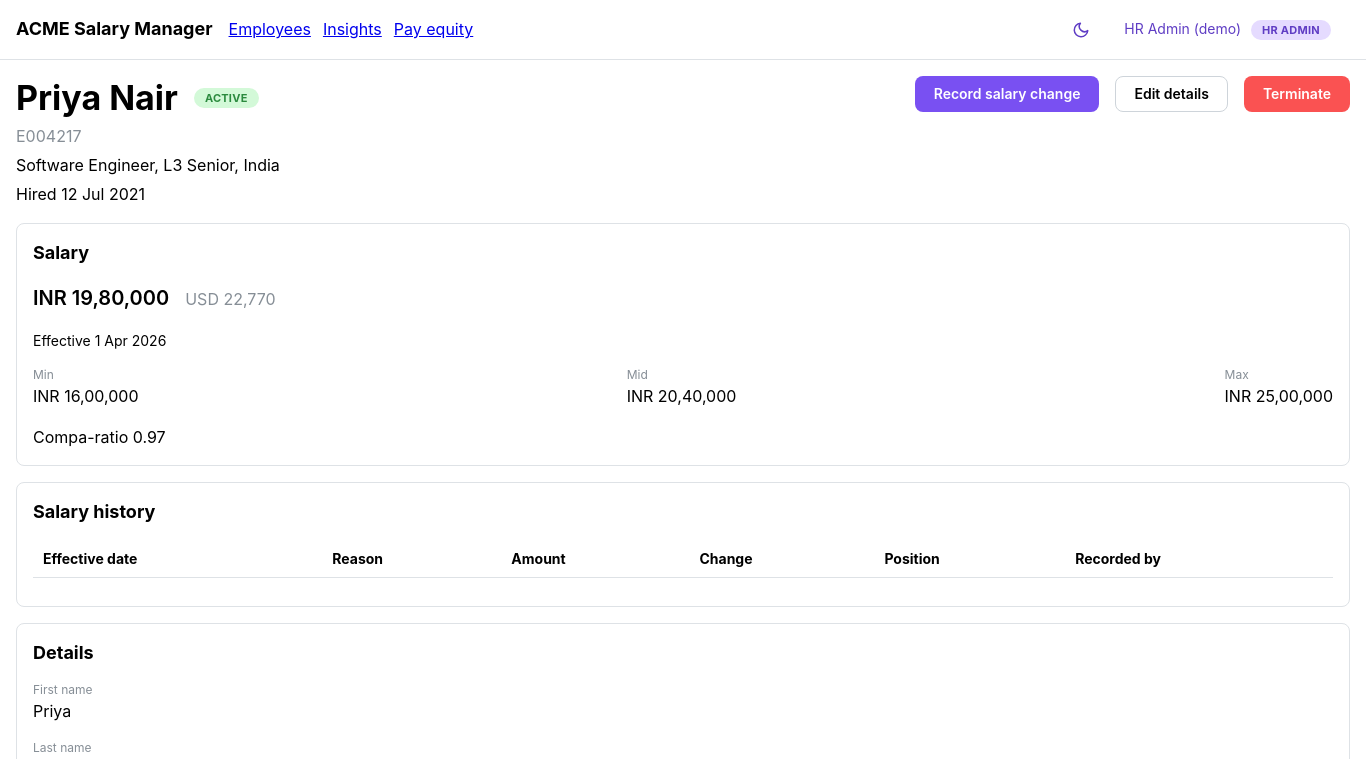
Test: record salary change modal (04 section 8.5 S-6) › rejects a salary of 0 with a plain message
Click the button "Record salary change" at (1007, 94), box [915,76,1100,112]
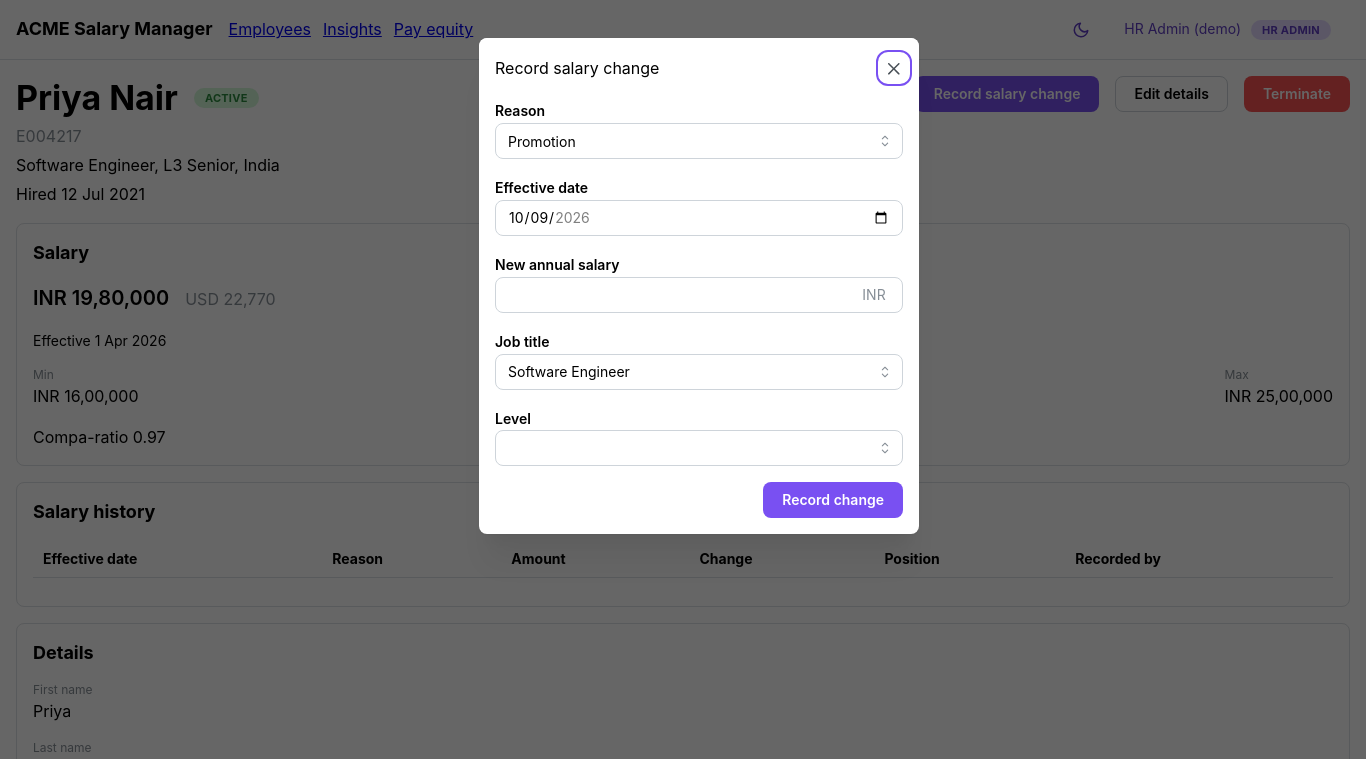
Click the dropdown labelled "Reason" at (699, 141), box [495,123,903,159]
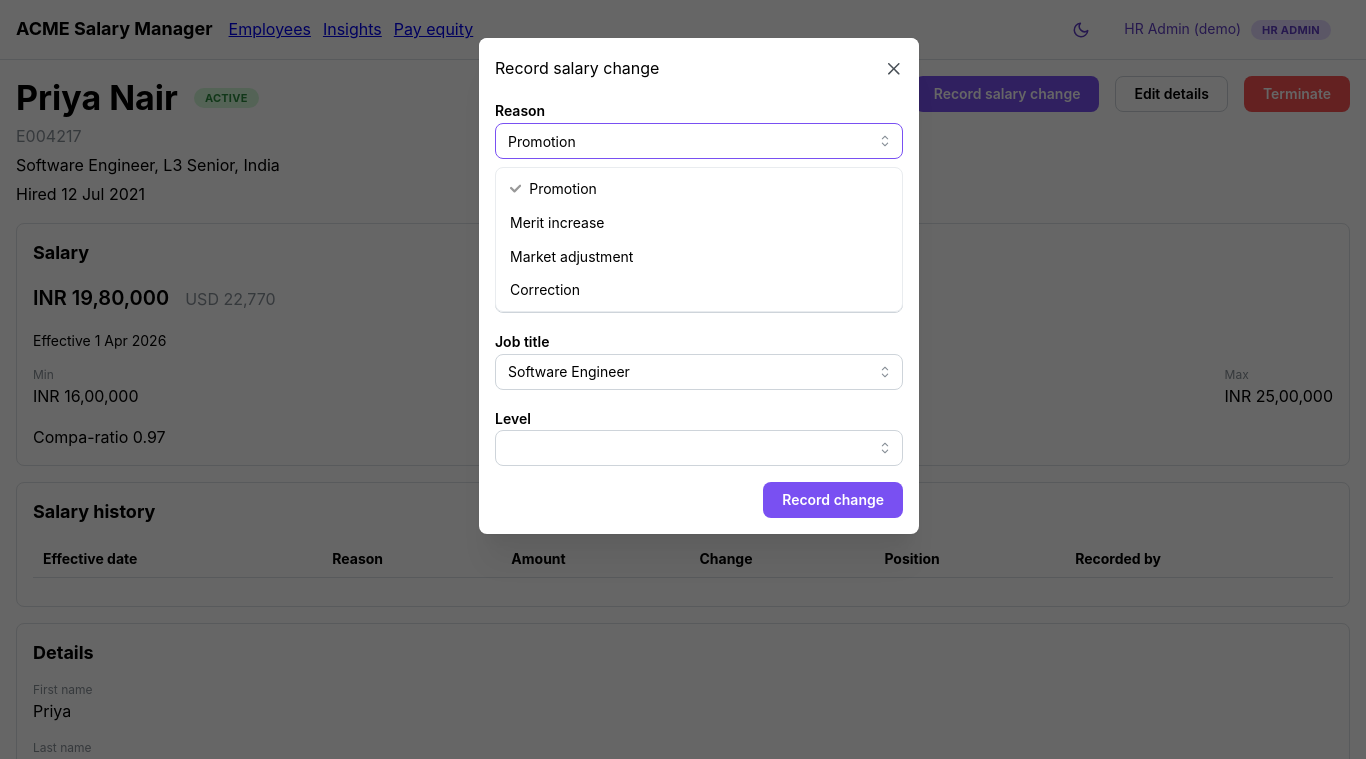
Click the option "Merit increase" at (557, 222), box [510,214,604,231]
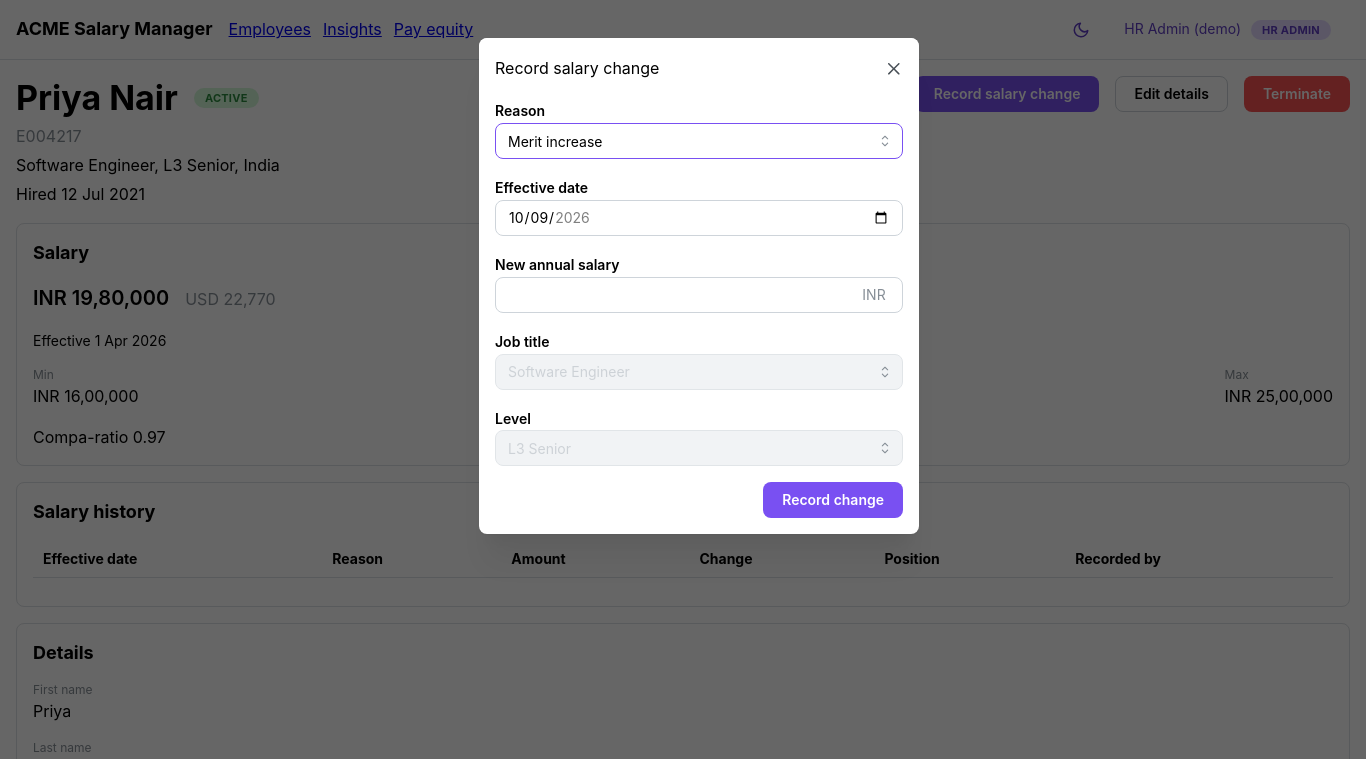
Type "0" into the field labelled "New annual salary" at (699, 295), box [495,277,903,313]
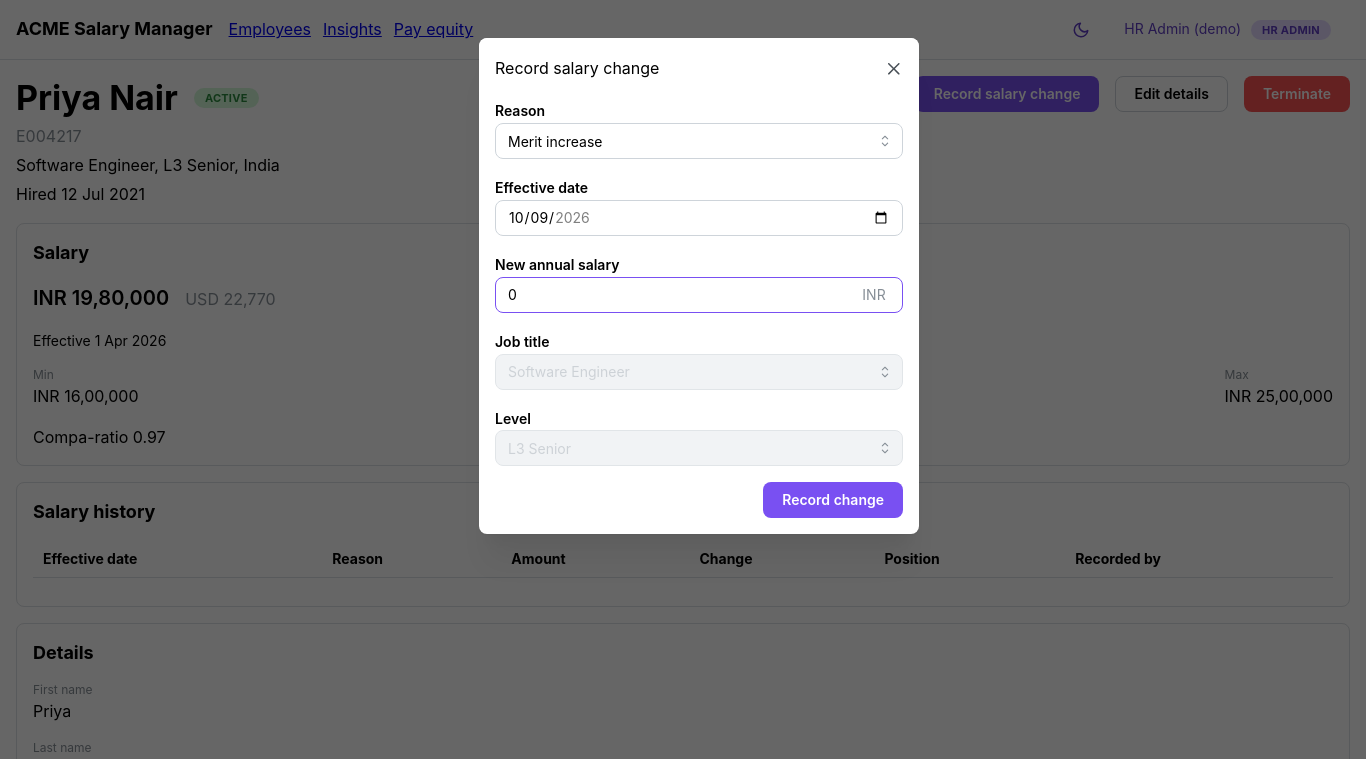
Click the button "Record change" at (833, 500), box [763,482,903,518]
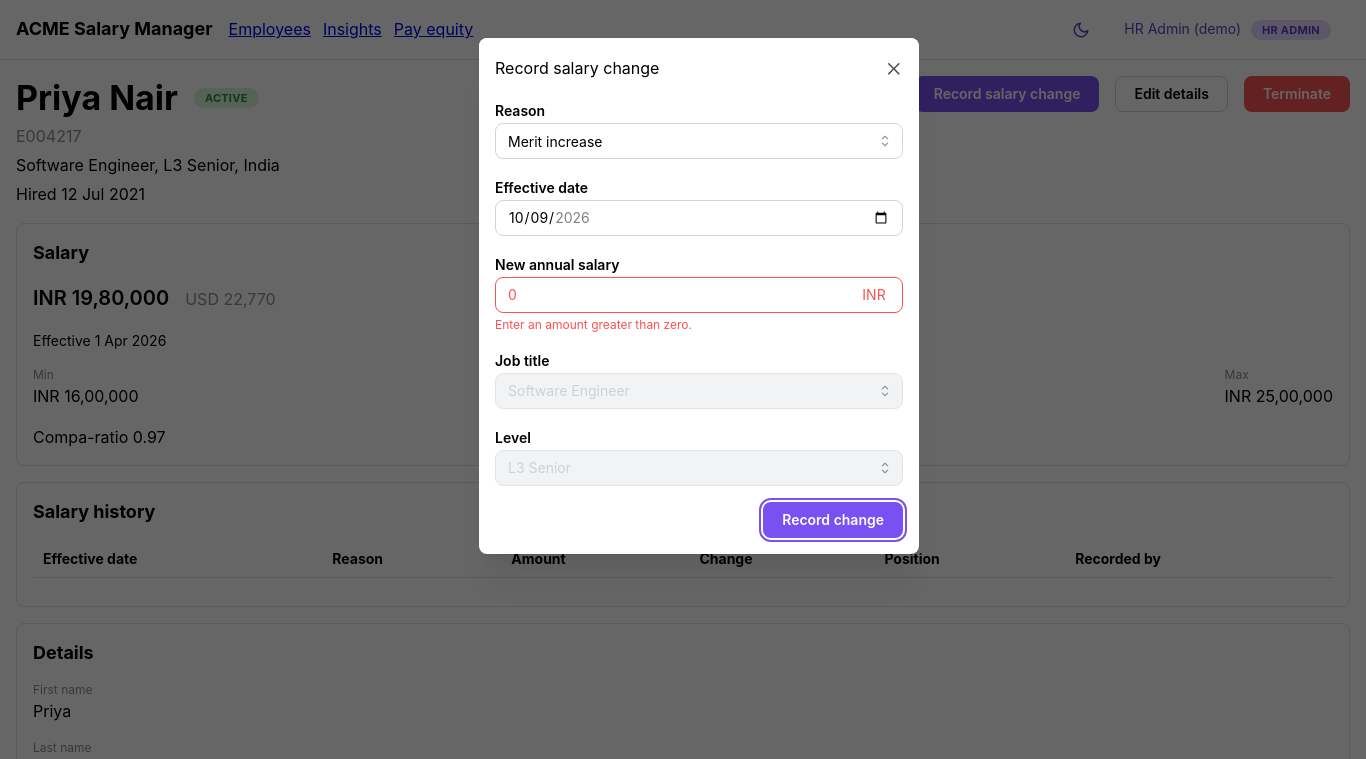
Check: the text "Enter an amount greater than zero." is shown, box [495,317,692,332]
